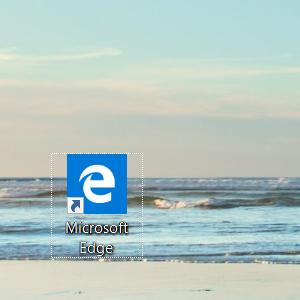edge: (67, 154, 127, 214)
